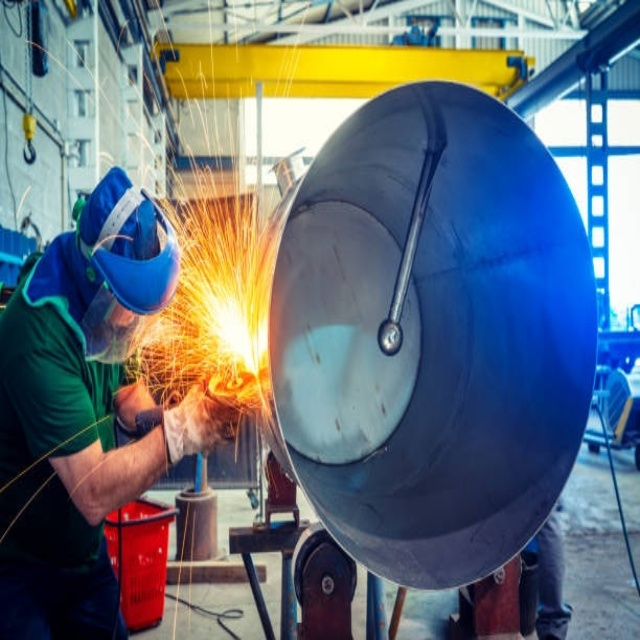Guantes: (159, 370, 236, 471)
